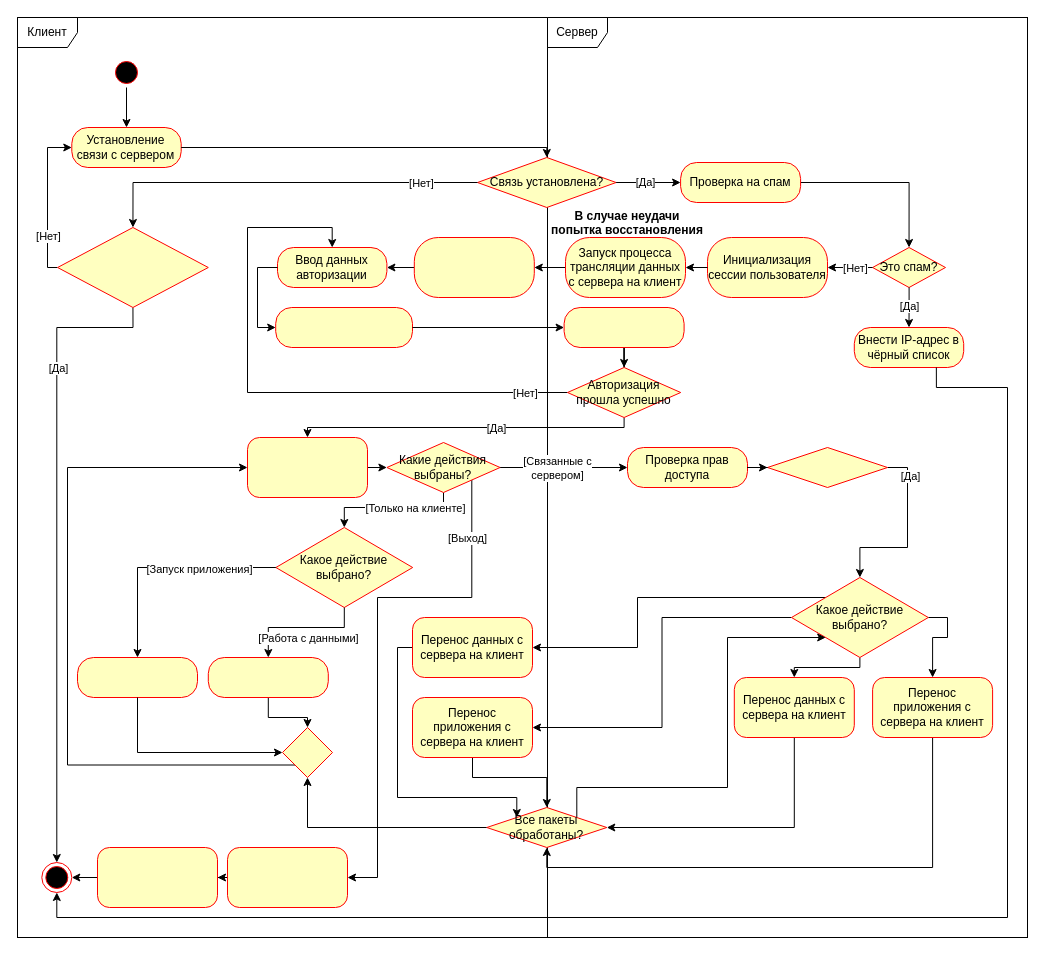
This 1045x955 diagram has some shape labels left out. The shapes that lost their labels are listed below. From the top down, each one's centre as x and y in pixels, then its label:
At point 132,267: "Кол-во попыток повторного соедниения исчерпано?".
At point 473,267: "Запуск процесса трансляции данных с клиента на сервер".
At point 343,327: "Отправка данных авторизации на сервер".
At point 623,327: "Проверка данных авторизации".
At point 307,467: "Выбор доступного действия".
At point 827,467: "Пользователь и клиент имеют права доступа?".
At point 137,677: "Запустить приложение".
At point 267,677: "Выполнить действие с данными".
At point 157,877: "Выход из учетной записи".
At point 287,877: "Остановка трансляции".
